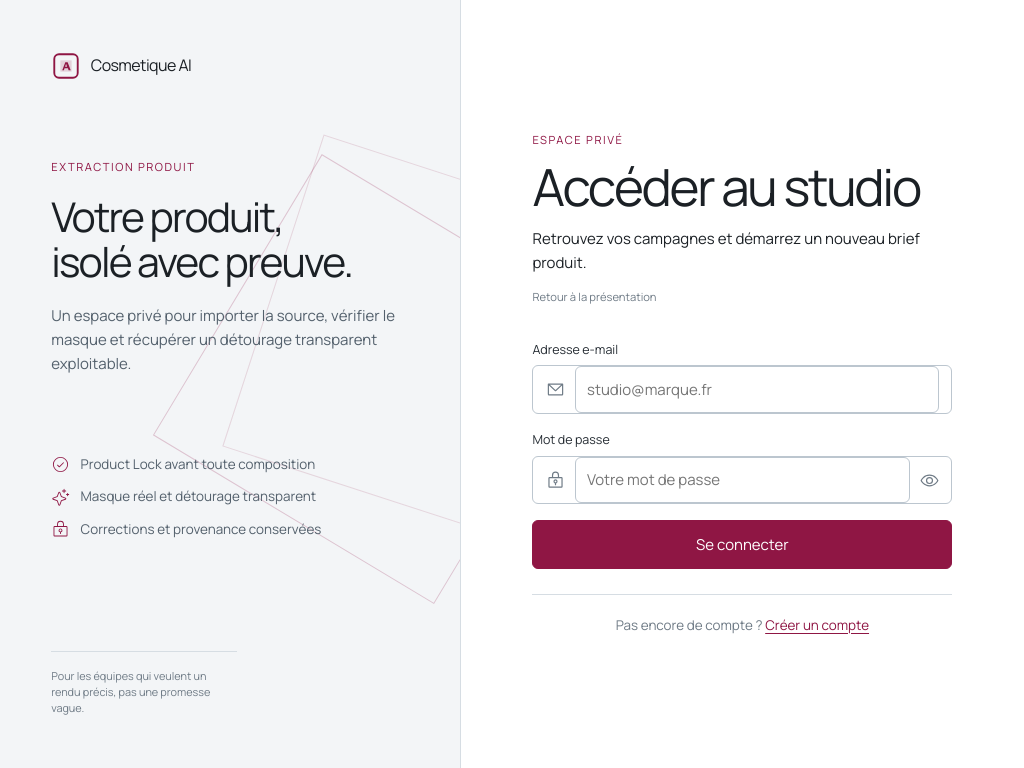
login › announces a safe API error
Type "studio@example.com" into the field labelled "Adresse e-mail".
click(757, 390); type("studio@example.com")  # box [575,366,939,413]
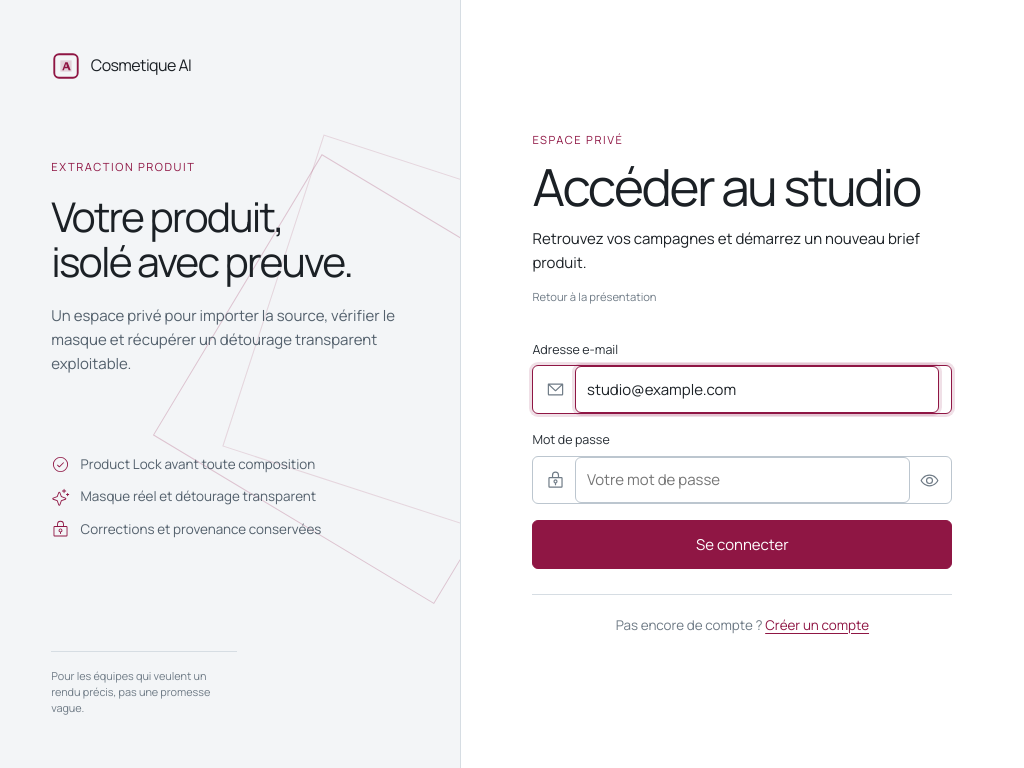
Type "incorrect" into the password field labelled "Mot de passe".
click(742, 480); type("incorrect")  # box [575,457,910,503]
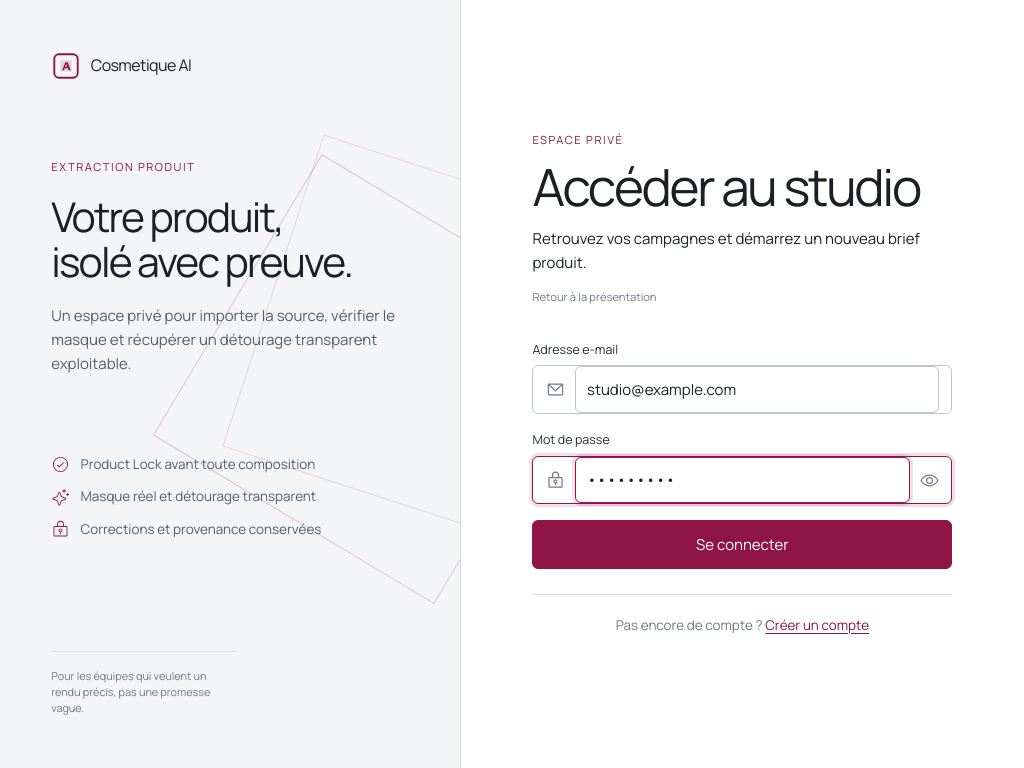
Click the button "Se connecter".
click(742, 545)  # box [532,520,952,569]
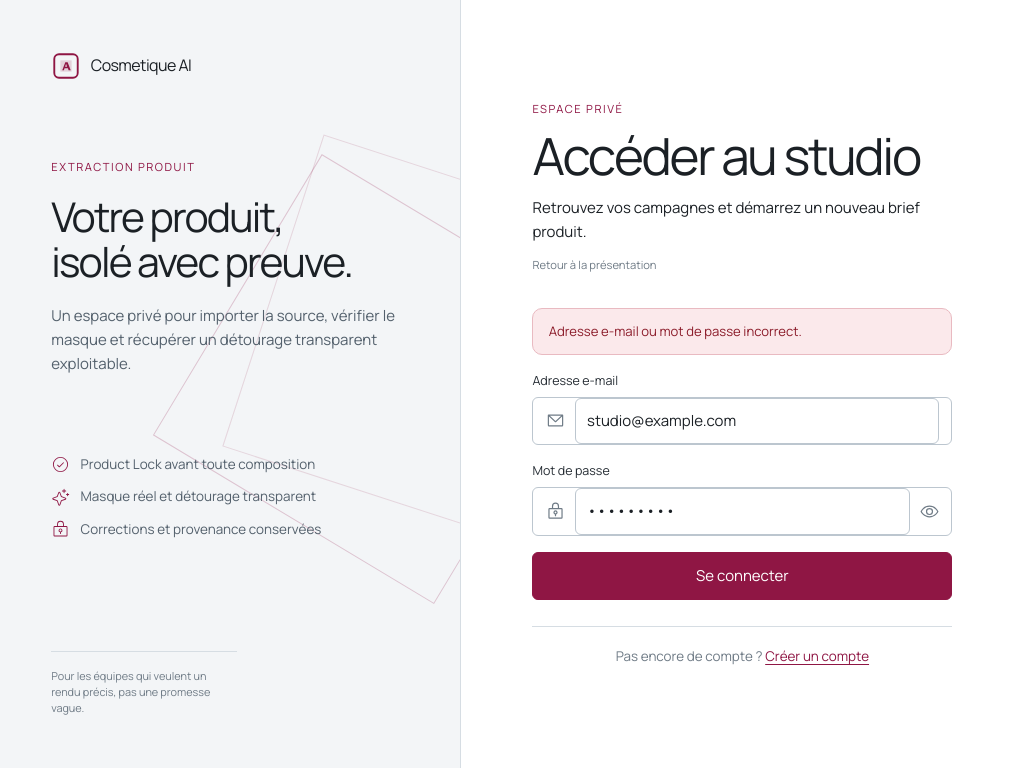
Check: the message reads "Adresse e-mail ou mot de passe incorrect.", box [549,322,802,340]
